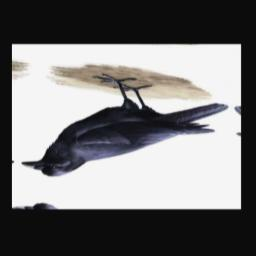Crow: (19, 65, 234, 196)
